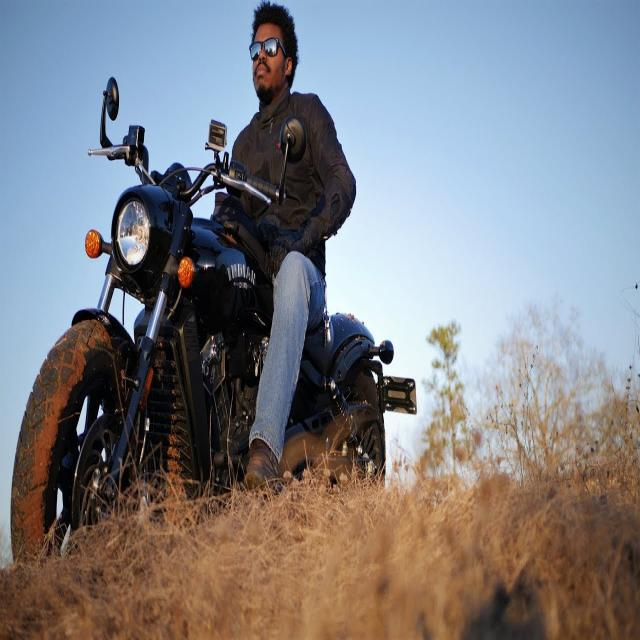motorcycle: (11, 2, 416, 558)
